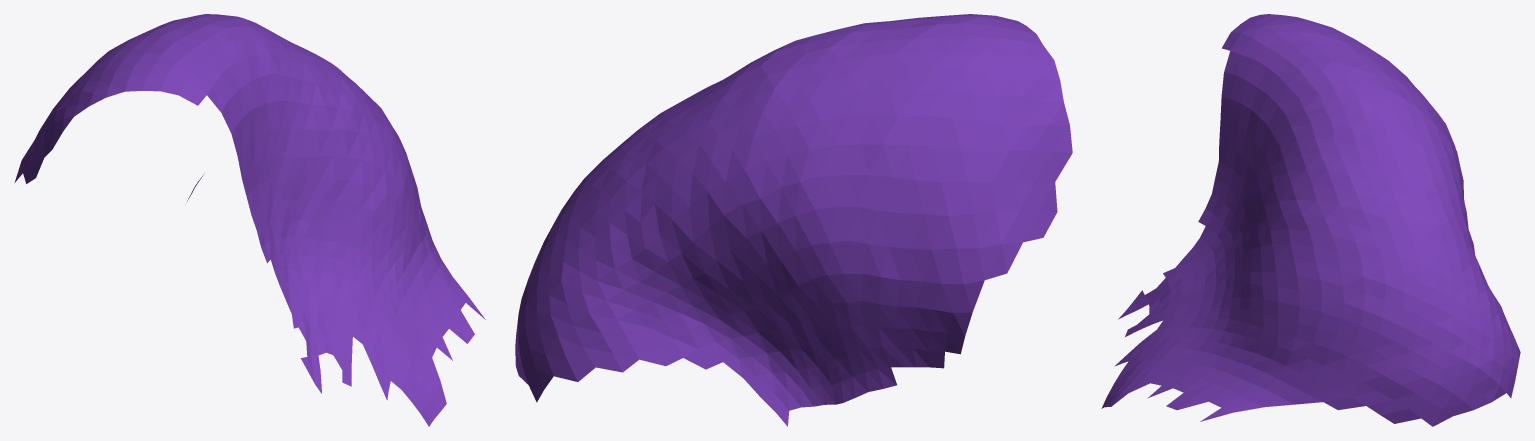
The model's file is lh_temporalpole.glb.
3 views of the same model, side by side, from view 1: azimuth 30°, elevation 25°; view 2: azimuth 150°, elevation 25°; view 3: azimuth 270°, elevation 25° (orthographic). The views are drawn at different scales.
Visible parts, largest first — view 1: world; view 2: world; view 3: world.
Part boxes in pixels (box(x1,y1,x2,y2)): world: box(14, 14, 485, 426); world: box(515, 14, 1072, 426); world: box(1101, 14, 1520, 426).
Bounding box in the file's own units: 23.98 × 19.4 × 23.66.
